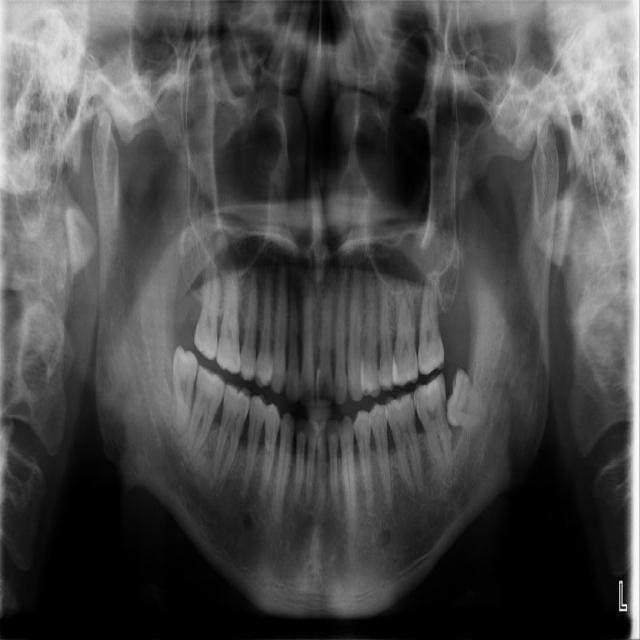73: (560, 565, 568, 583)
BioHorizons Implant: (418, 266, 444, 375)
Biomet 3i Implant: (442, 366, 497, 438)
Blue Sky Bio Implant: (410, 373, 457, 475)
Caries: (193, 250, 219, 359)
Implant: (183, 364, 229, 462)
Keystone Dental Implant: (169, 343, 200, 438)
